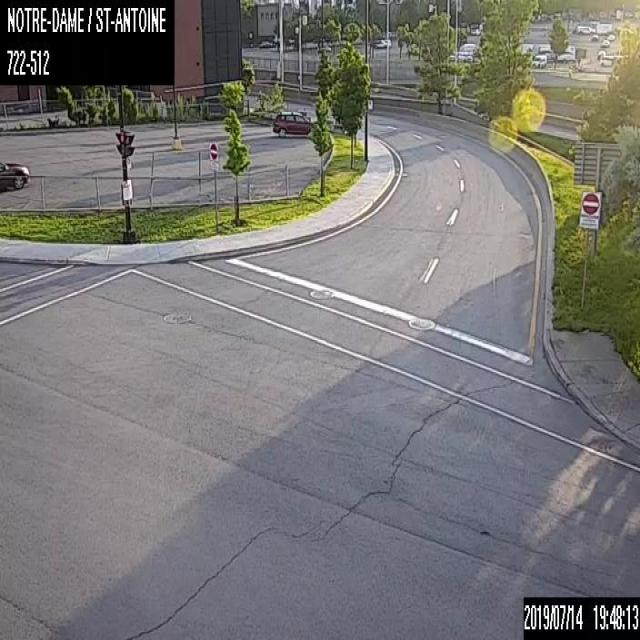vehicle: (272, 109, 314, 137), (0, 158, 28, 189)
